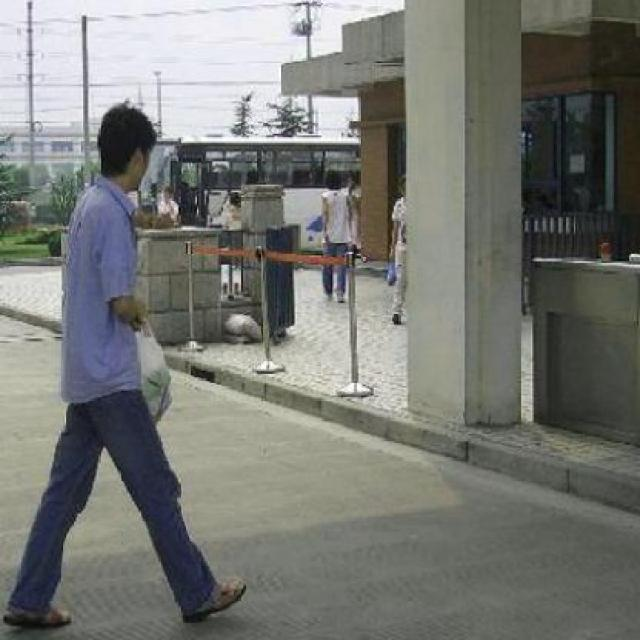Person: (0, 95, 252, 630), (312, 167, 358, 305)
